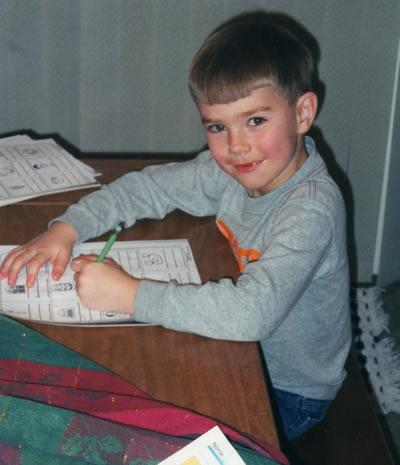person: (4, 11, 356, 447)
